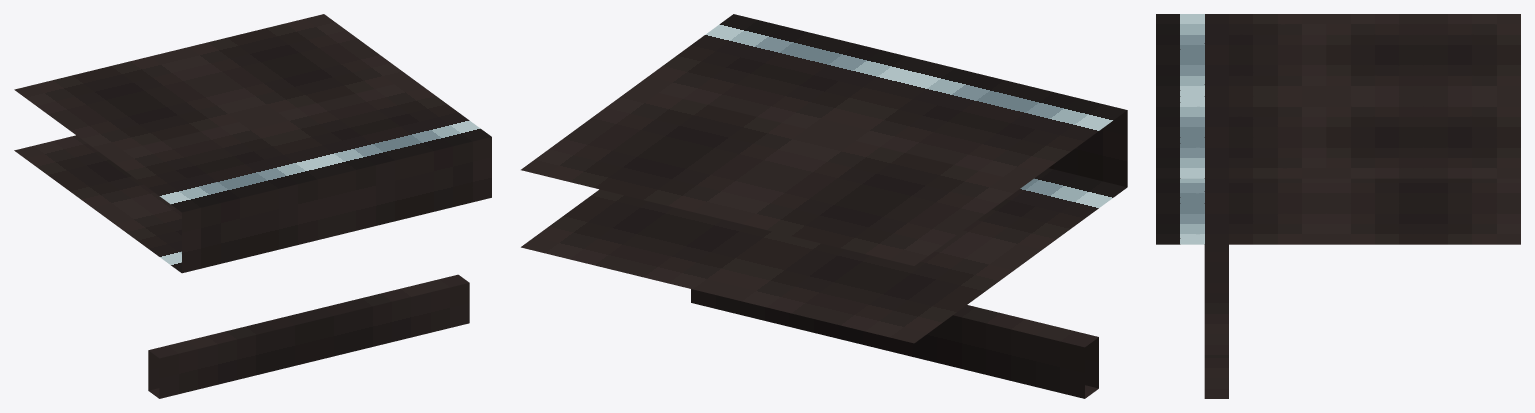
Rendered from table_edge.obj.
3 renders of one model, left to right at view 1: azimuth 30°, elevation 25°; view 2: azimuth 150°, elevation 25°; view 3: azimuth 270°, elevation 25°, orthographic. The views are drawn at different scales.
Visible parts, largest first — view 1: EDGE_TABLE_TOP_Cube.011, EDGE_TABLE_LEGS_Cube.010; view 2: EDGE_TABLE_TOP_Cube.011, EDGE_TABLE_LEGS_Cube.010; view 3: EDGE_TABLE_TOP_Cube.011, EDGE_TABLE_LEGS_Cube.010.
Part boxes in pixels (x1=…): EDGE_TABLE_TOP_Cube.011: x1=14, y1=14, x2=491, y2=273; EDGE_TABLE_LEGS_Cube.010: x1=148, y1=274, x2=469, y2=398; EDGE_TABLE_TOP_Cube.011: x1=521, y1=14, x2=1127, y2=343; EDGE_TABLE_LEGS_Cube.010: x1=691, y1=289, x2=1098, y2=398; EDGE_TABLE_TOP_Cube.011: x1=1156, y1=14, x2=1520, y2=244; EDGE_TABLE_LEGS_Cube.010: x1=1204, y1=244, x2=1228, y2=398.
Bounding box in the file's own units: 1 × 0.625 × 0.9375.
